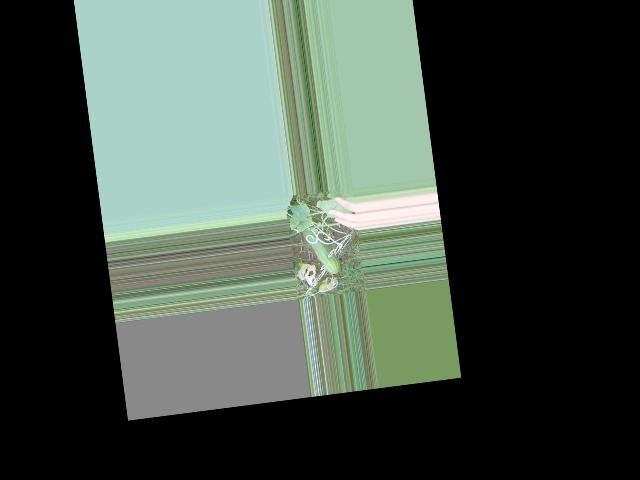cucumber: (302, 224, 341, 277)
